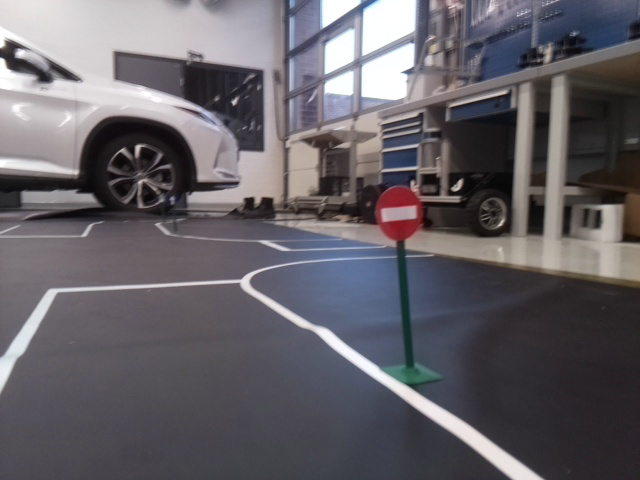NoEntry: (372, 185, 422, 240)
